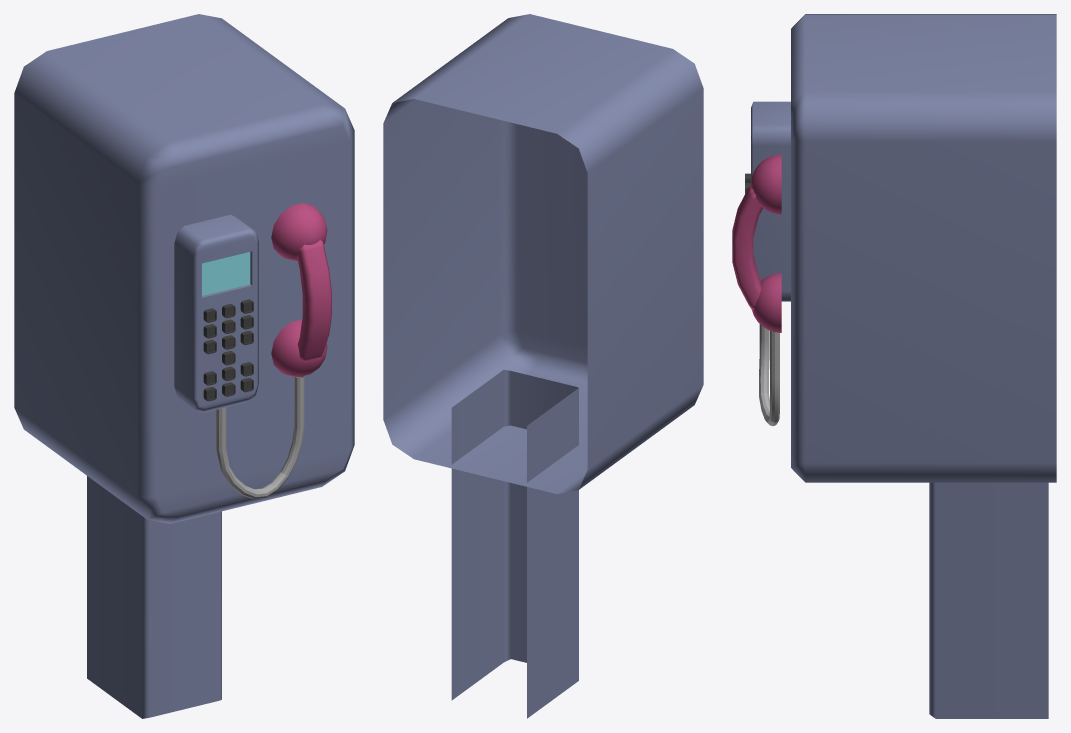
The model's file is phone_box.fbx.
The picture shows the model from 3 angles, left to right: view 1: azimuth 30°, elevation 25°; view 2: azimuth 150°, elevation 25°; view 3: azimuth 270°, elevation 25°; orthographic projection. The views are drawn at different scales.
Parts seen in each view (by area): view 1: pCube101; view 2: pCube101; view 3: pCube101.
Part boxes in pixels (x1=…): pCube101: x1=14, y1=14, x2=354, y2=718; pCube101: x1=383, y1=14, x2=703, y2=718; pCube101: x1=732, y1=14, x2=1056, y2=718.
Size of the model in its own units: 0.5937 by 1.65 by 0.7535.
